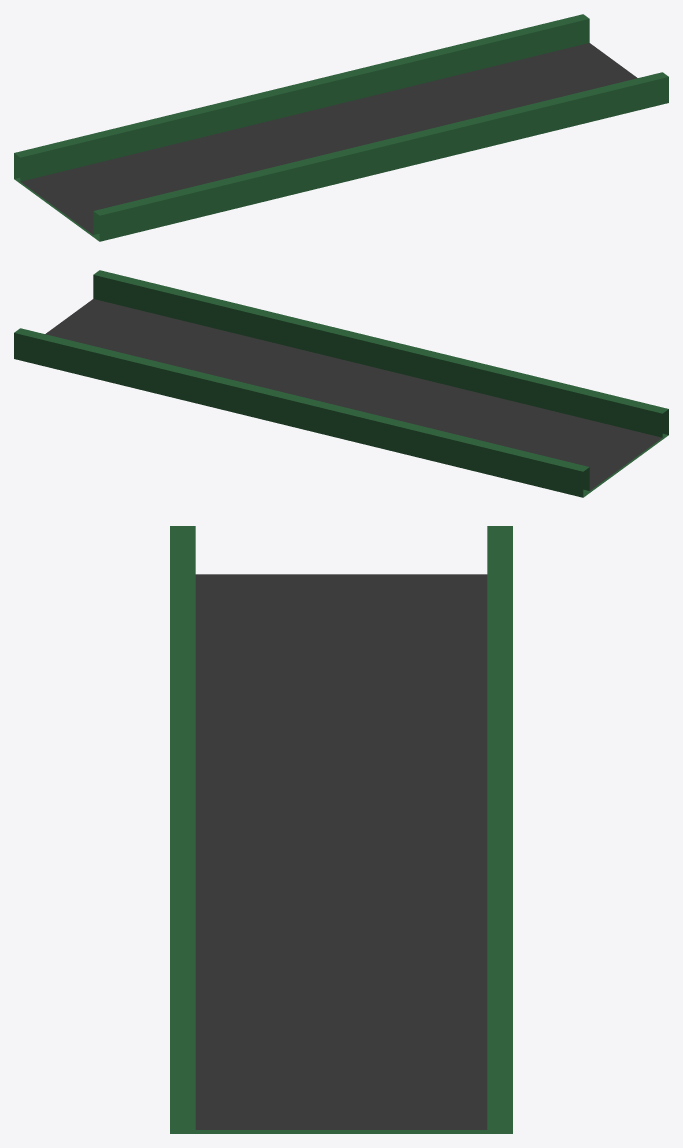
The model's file is conveerstraight.fbx.
3 views of the same model, one above another, from view 1: azimuth 30°, elevation 25°; view 2: azimuth 150°, elevation 25°; view 3: azimuth 270°, elevation 25° (orthographic). The views are drawn at different scales.
Parts seen in each view (by area): view 1: conveerstraight; view 2: conveerstraight; view 3: conveerstraight.
Boxes of the visible parts, left/top/right/bottom form: conveerstraight: left=14, top=14, right=668, bottom=241; conveerstraight: left=14, top=270, right=668, bottom=497; conveerstraight: left=170, top=526, right=512, bottom=1133.
Bounding box in the file's own units: 110 × 4.83 × 28.76.
2 materials, 2 textured.
